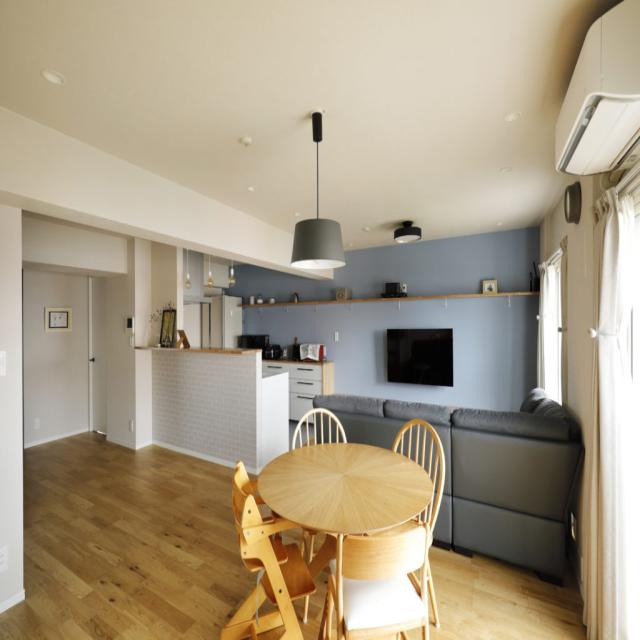natural chair: (332, 527, 431, 640)
natural desk: (256, 430, 427, 531)
